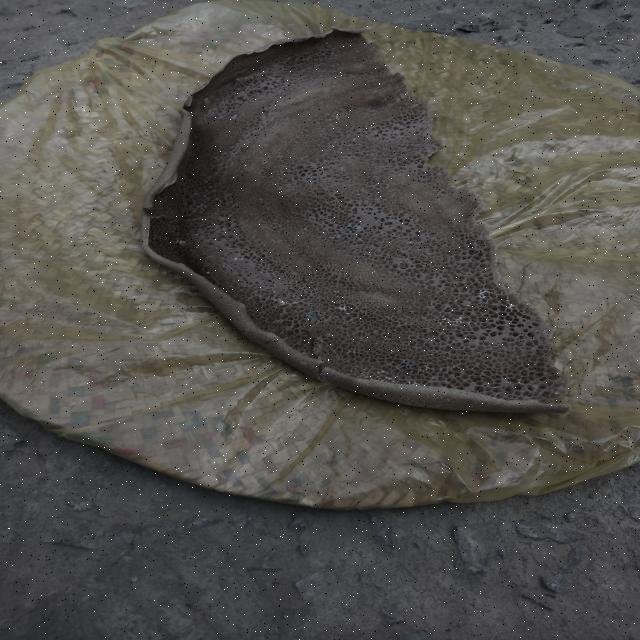injera_mold: (439, 315, 467, 326), (475, 288, 493, 304), (303, 311, 321, 325), (397, 361, 411, 370), (276, 298, 288, 308), (323, 372, 336, 381), (361, 372, 374, 381), (379, 372, 390, 382), (346, 225, 358, 234), (296, 285, 306, 295), (422, 362, 429, 376), (337, 306, 349, 314), (229, 112, 239, 121), (197, 204, 206, 213), (519, 379, 530, 386), (331, 235, 340, 243), (506, 302, 515, 310), (300, 228, 310, 235), (406, 380, 416, 386), (176, 239, 184, 246), (232, 256, 241, 262), (532, 386, 538, 391), (274, 320, 284, 323), (349, 350, 356, 354), (205, 271, 211, 275), (333, 290, 339, 294), (390, 350, 397, 353), (436, 405, 442, 408), (292, 301, 298, 304), (302, 362, 306, 366), (372, 271, 376, 275), (348, 374, 356, 376), (418, 369, 421, 374), (418, 291, 421, 296), (318, 360, 323, 363), (236, 78, 241, 81), (447, 398, 450, 402), (195, 233, 199, 236), (555, 392, 559, 395), (536, 330, 540, 333), (185, 241, 189, 244), (195, 247, 200, 249), (409, 370, 414, 372), (363, 368, 368, 370), (467, 304, 470, 307), (466, 298, 469, 301), (295, 280, 298, 283), (411, 365, 414, 368), (214, 247, 218, 249), (452, 366, 456, 368), (349, 370, 353, 372), (342, 367, 346, 369), (506, 297, 508, 301), (494, 292, 496, 296), (332, 368, 336, 370), (469, 368, 473, 370), (173, 241, 175, 245), (396, 375, 398, 378), (326, 42, 328, 45), (283, 338, 286, 340), (272, 298, 275, 300), (358, 372, 359, 378), (451, 308, 453, 311), (458, 305, 460, 308), (260, 271, 263, 273), (272, 290, 275, 292), (273, 294, 276, 296), (263, 245, 266, 247), (471, 406, 474, 408), (520, 388, 523, 390), (302, 353, 307, 354), (287, 58, 289, 60), (430, 303, 432, 305), (496, 312, 498, 314), (430, 312, 432, 314), (223, 265, 225, 267), (534, 364, 536, 366), (546, 390, 548, 392), (522, 410, 524, 412), (496, 394, 498, 396), (524, 388, 526, 390), (392, 362, 395, 363), (338, 357, 341, 358), (469, 317, 472, 318), (312, 281, 313, 284), (431, 354, 433, 355), (408, 218, 410, 219), (411, 219, 413, 220), (428, 338, 430, 339), (432, 336, 434, 337), (475, 306, 477, 307), (332, 348, 334, 349), (337, 344, 338, 346), (236, 83, 238, 84), (355, 368, 356, 369), (489, 336, 492, 336), (252, 78, 254, 78)
